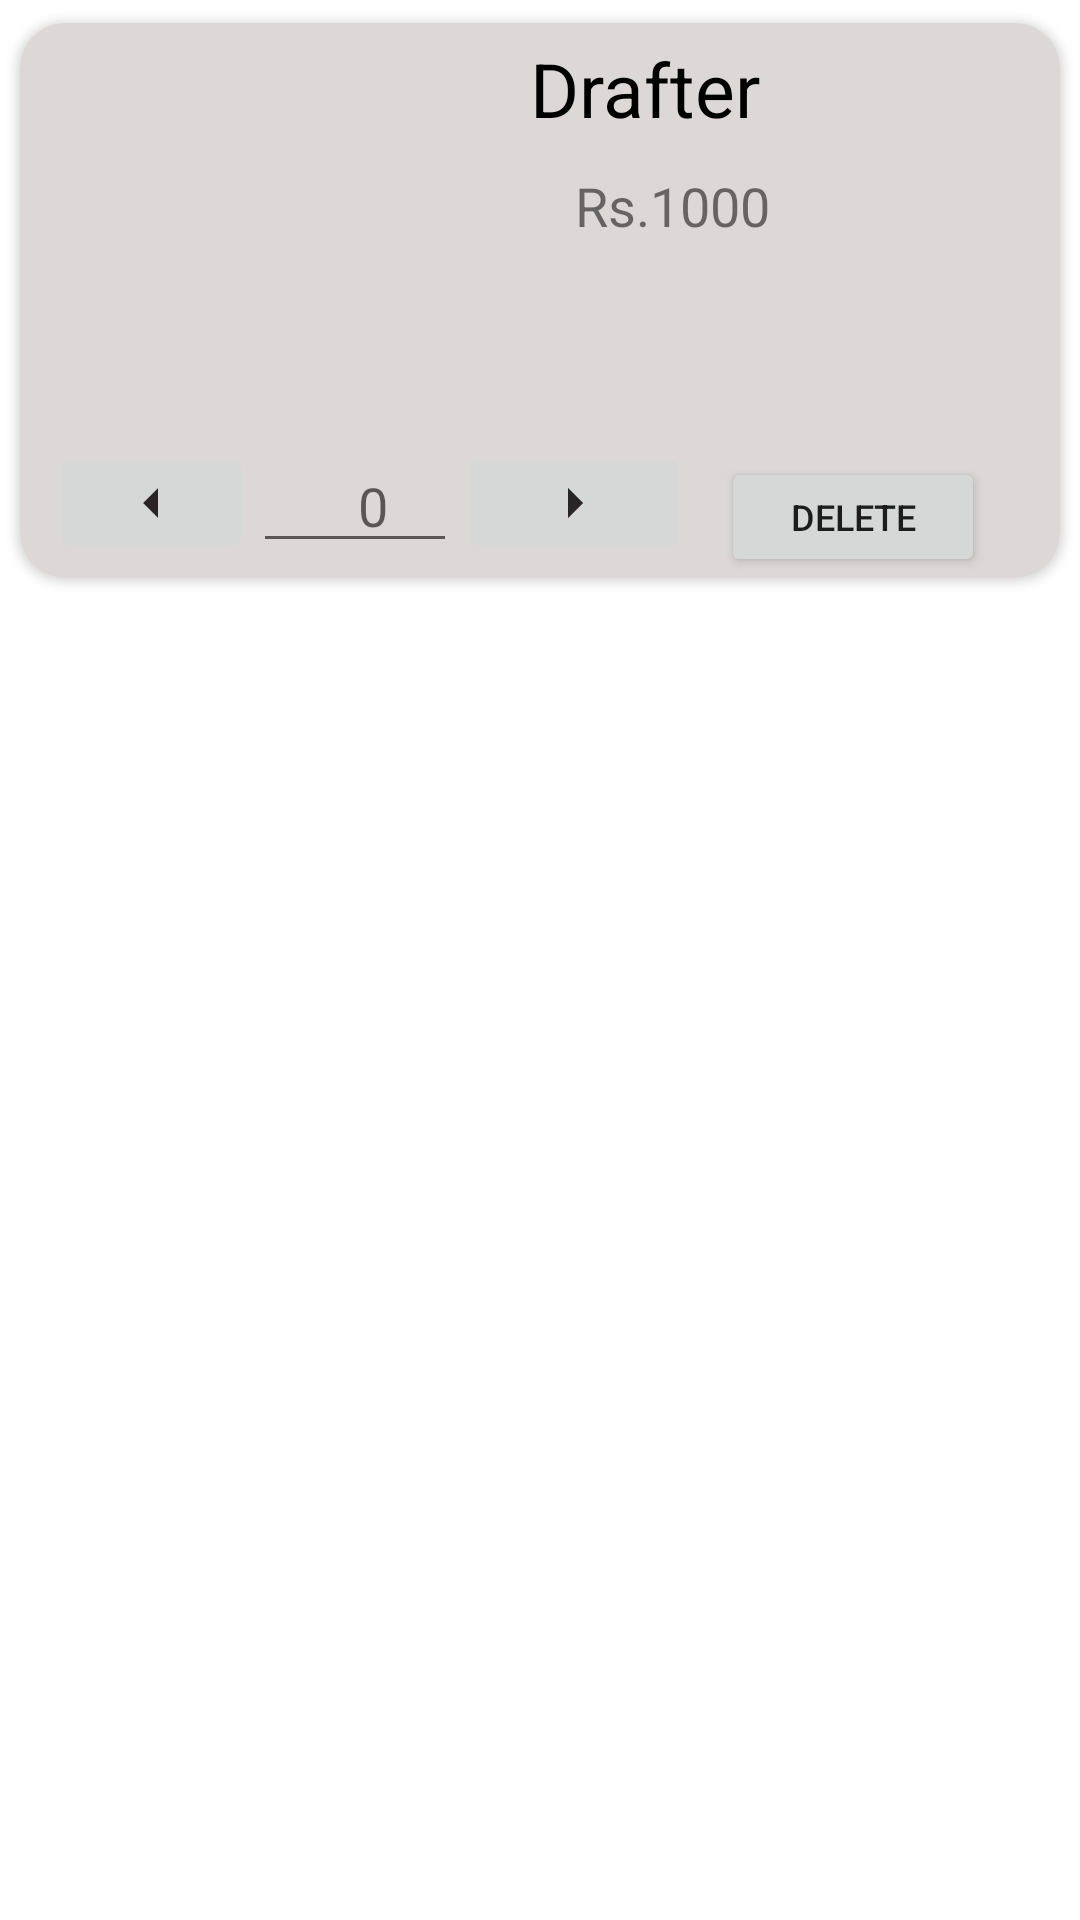

Icons on this 1080px x 1920px Android screen, each with its box as [x1=x1, y1=y1, x2=x2, y2=y2]:
arrow left: [x1=143, y1=488, x2=158, y2=518]
arrow right: [x1=568, y1=488, x2=583, y2=518]
